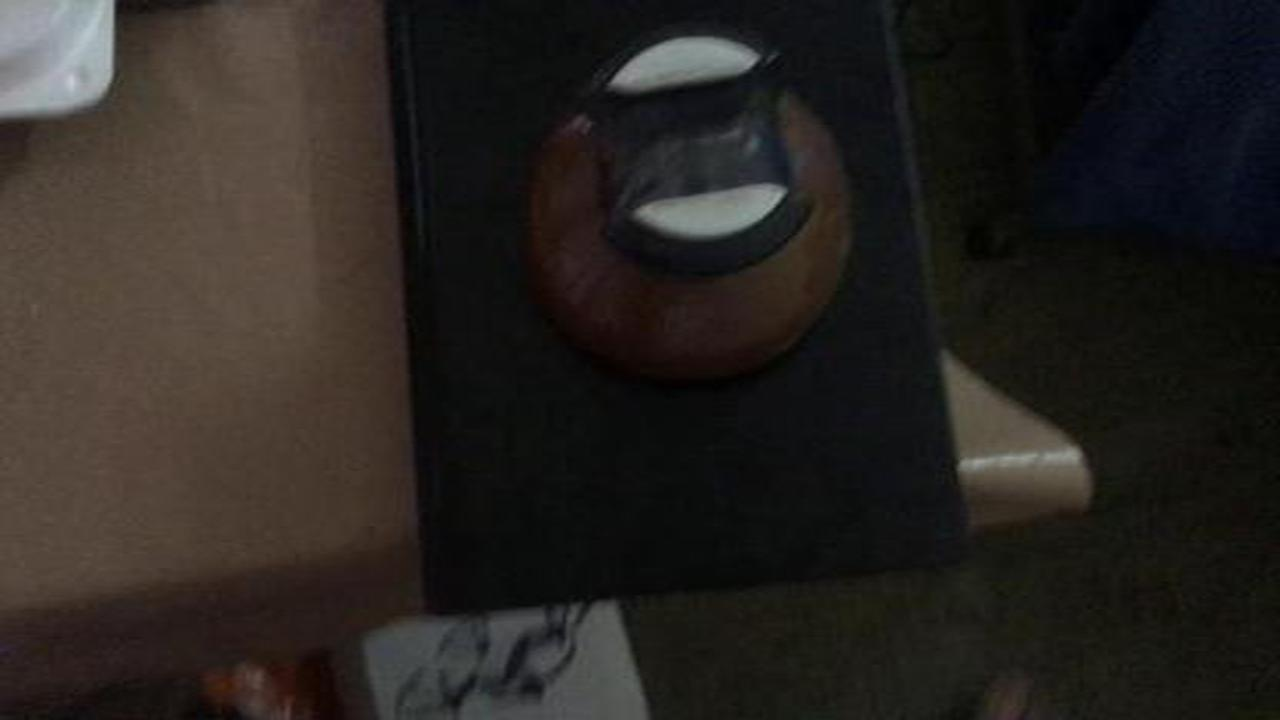insulator_pin: (481, 19, 890, 392)
